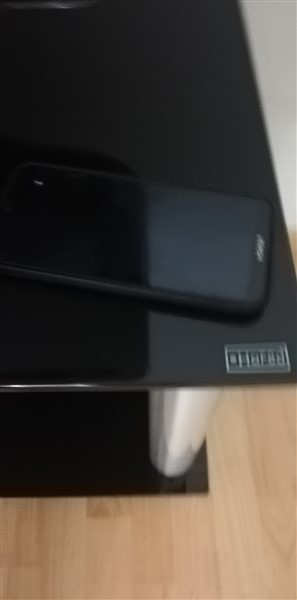telefon: (1, 157, 284, 322)
